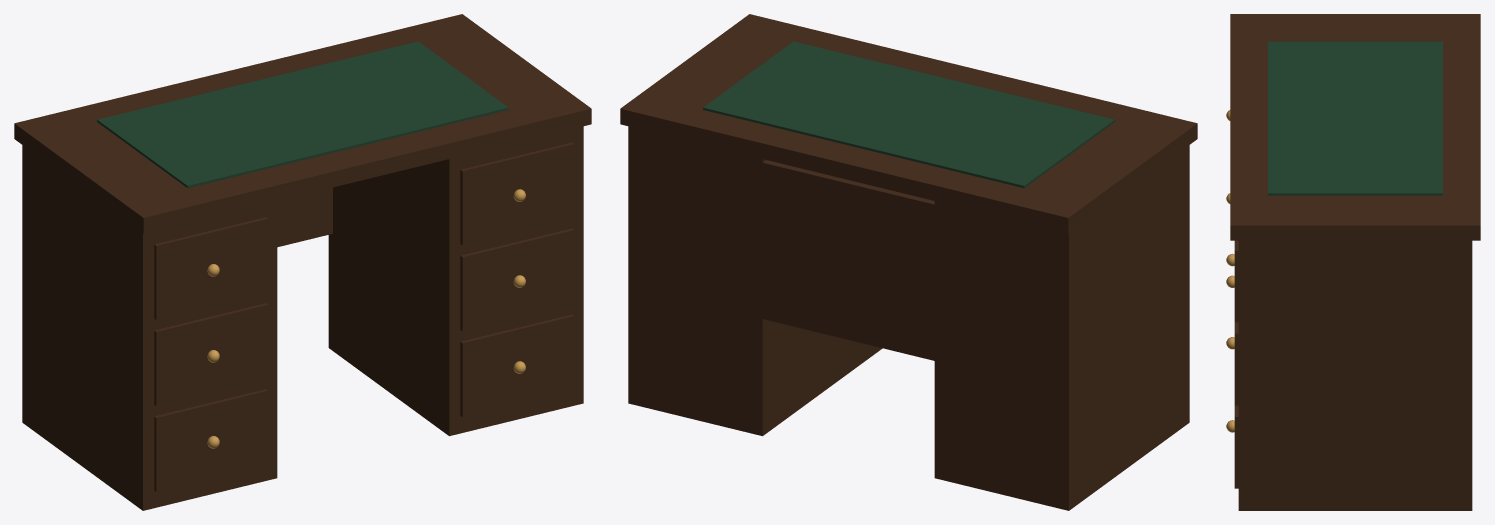
Rendered from desk_leather.glb.
3 renders of one model, left to right at view 1: azimuth 30°, elevation 25°; view 2: azimuth 150°, elevation 25°; view 3: azimuth 270°, elevation 25°, orthographic. The views are drawn at different scales.
Parts seen in each view (by area): view 1: Part2, Part9, Part0, Part1, Part5, Part7, Part3, Part10, Part12, Part14, Part16; view 2: Part2, Part9, Part0, Part1, Part16; view 3: Part9, Part0, Part1, Part12, Part10, Part14.
Boxes of the visible parts, x1,y1,x2,y2 form: Part2: (22, 145, 277, 510); Part9: (328, 126, 583, 436); Part0: (14, 14, 591, 233); Part1: (97, 41, 508, 188); Part5: (154, 303, 268, 406); Part7: (154, 217, 268, 320); Part3: (154, 389, 268, 491); Part10: (460, 314, 574, 417); Part12: (460, 228, 574, 331); Part14: (460, 142, 574, 245); Part16: (277, 187, 332, 247); Part2: (934, 145, 1189, 510); Part9: (628, 126, 882, 436); Part0: (620, 14, 1197, 233); Part1: (703, 41, 1114, 188); Part16: (762, 160, 934, 360); Part9: (1238, 240, 1472, 510); Part0: (1230, 14, 1480, 240); Part1: (1268, 41, 1442, 195); Part12: (1234, 322, 1238, 405); Part10: (1234, 405, 1238, 488); Part14: (1234, 240, 1238, 322).
Size of the model in its own units: 1.2 by 0.766 by 0.6096.
